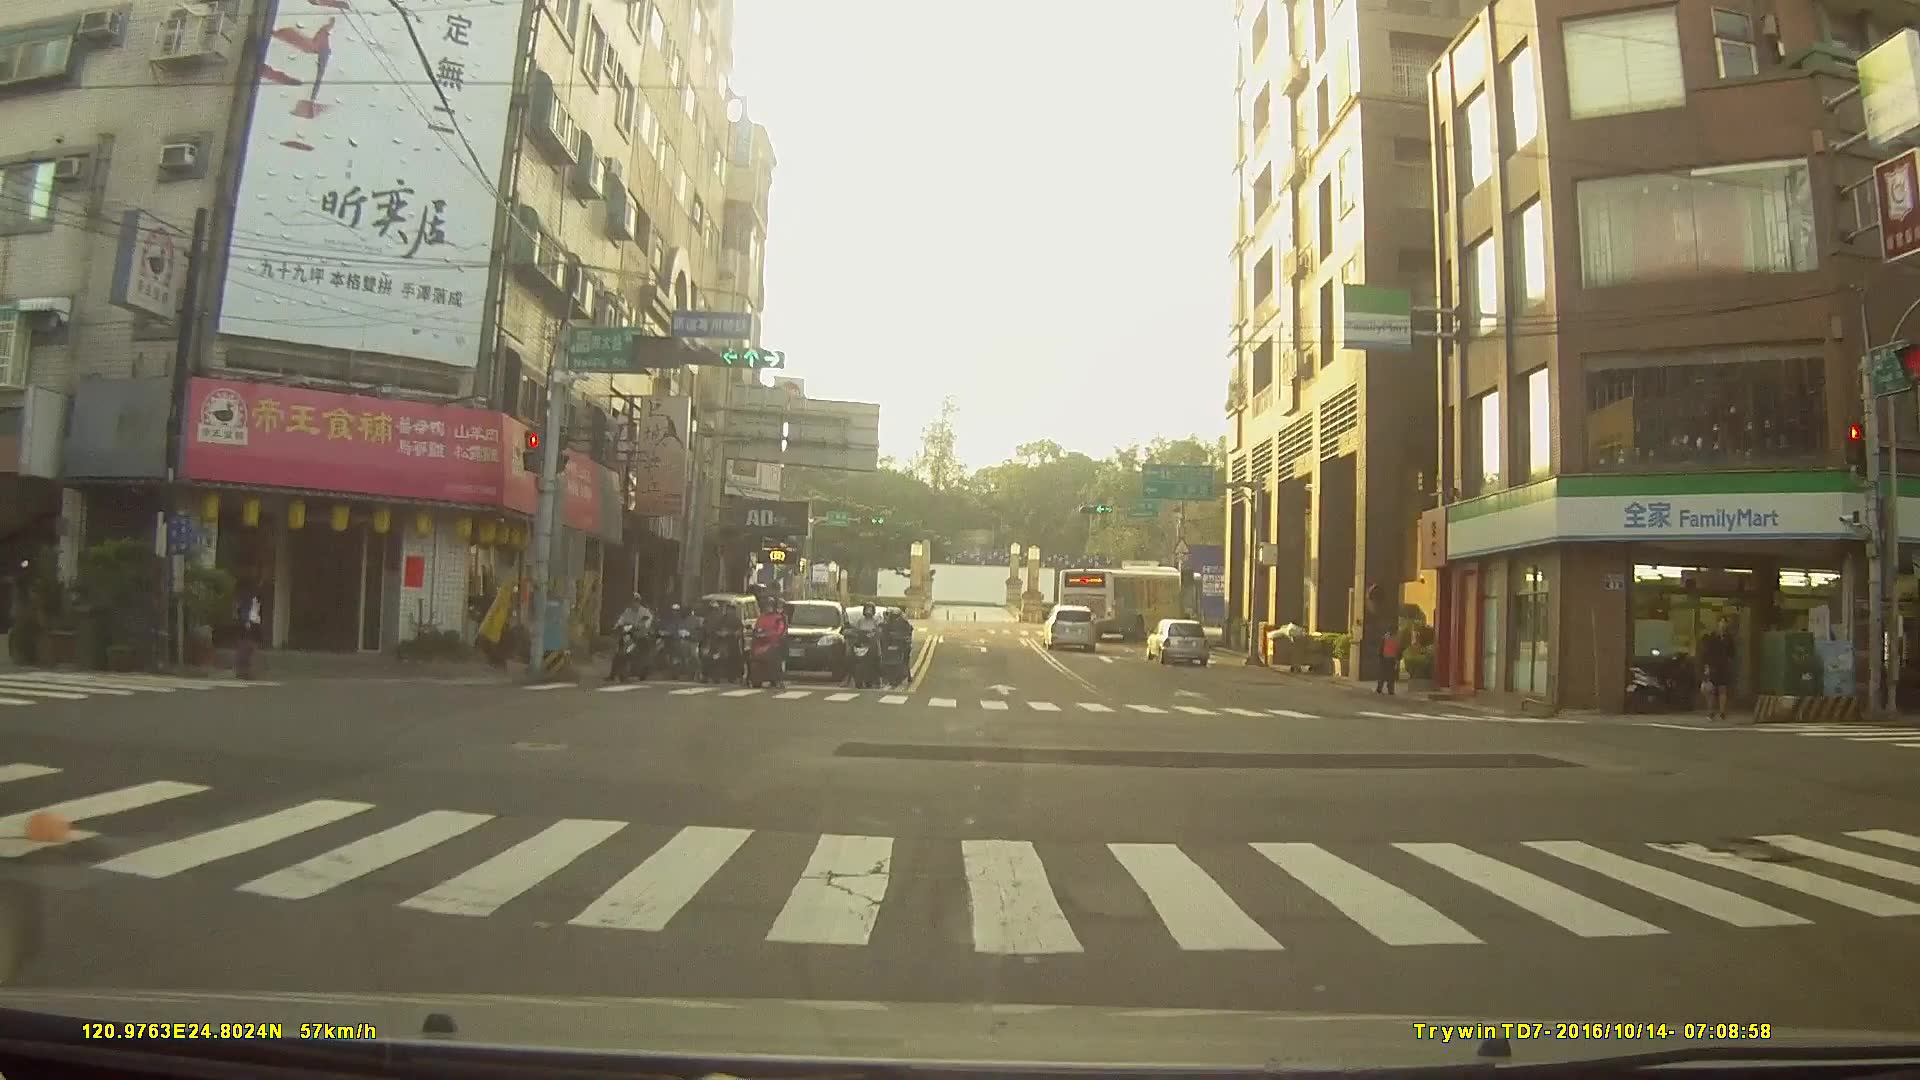pedestrian: (1699, 615, 1739, 725), (232, 577, 273, 687), (1373, 626, 1405, 697)
rider: (743, 591, 791, 691), (613, 593, 655, 688), (849, 600, 887, 688), (879, 606, 917, 688), (657, 600, 694, 678), (705, 601, 741, 682)
vehicle: (1053, 564, 1202, 637), (757, 598, 851, 679), (1142, 616, 1210, 663), (1041, 603, 1098, 652)
